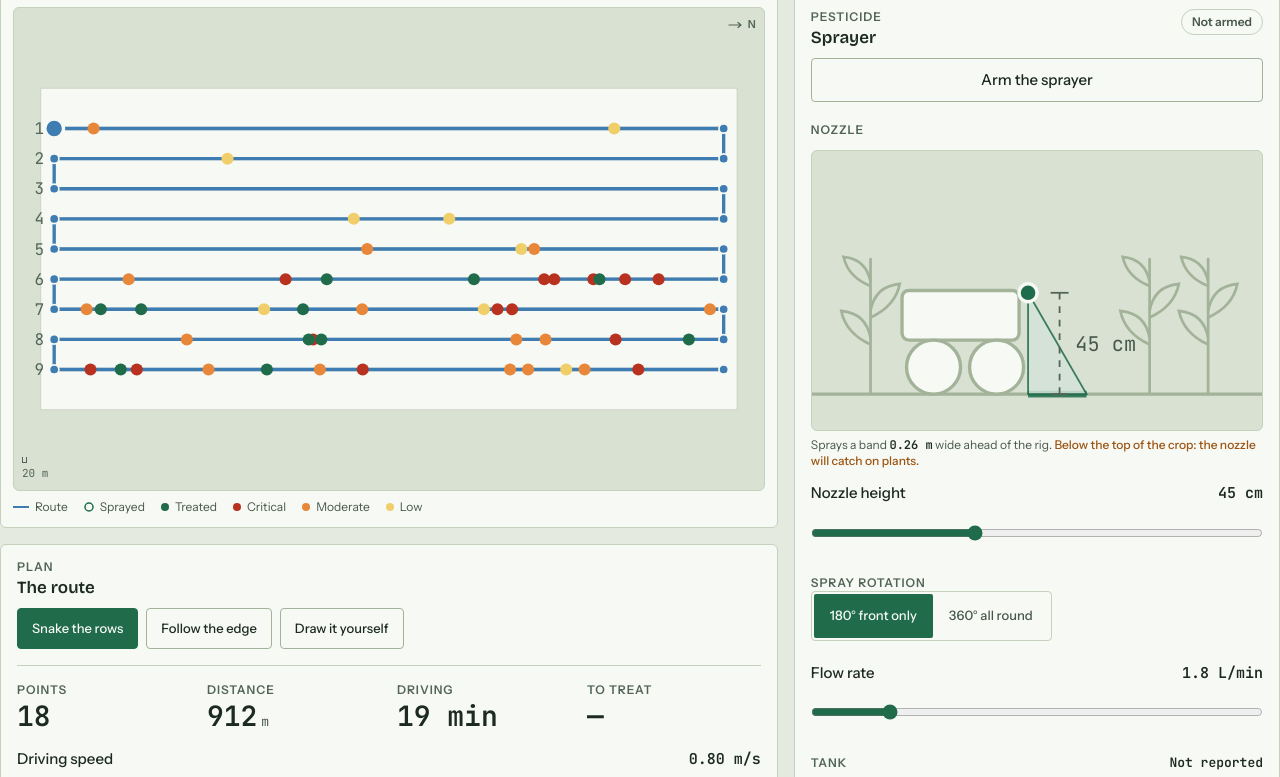
Test: MissionWorkspace › removes a custom point and renumbers the rest
Click the button "Draw it yourself" at (342, 628), box [280, 608, 404, 649]
(page scrolled)
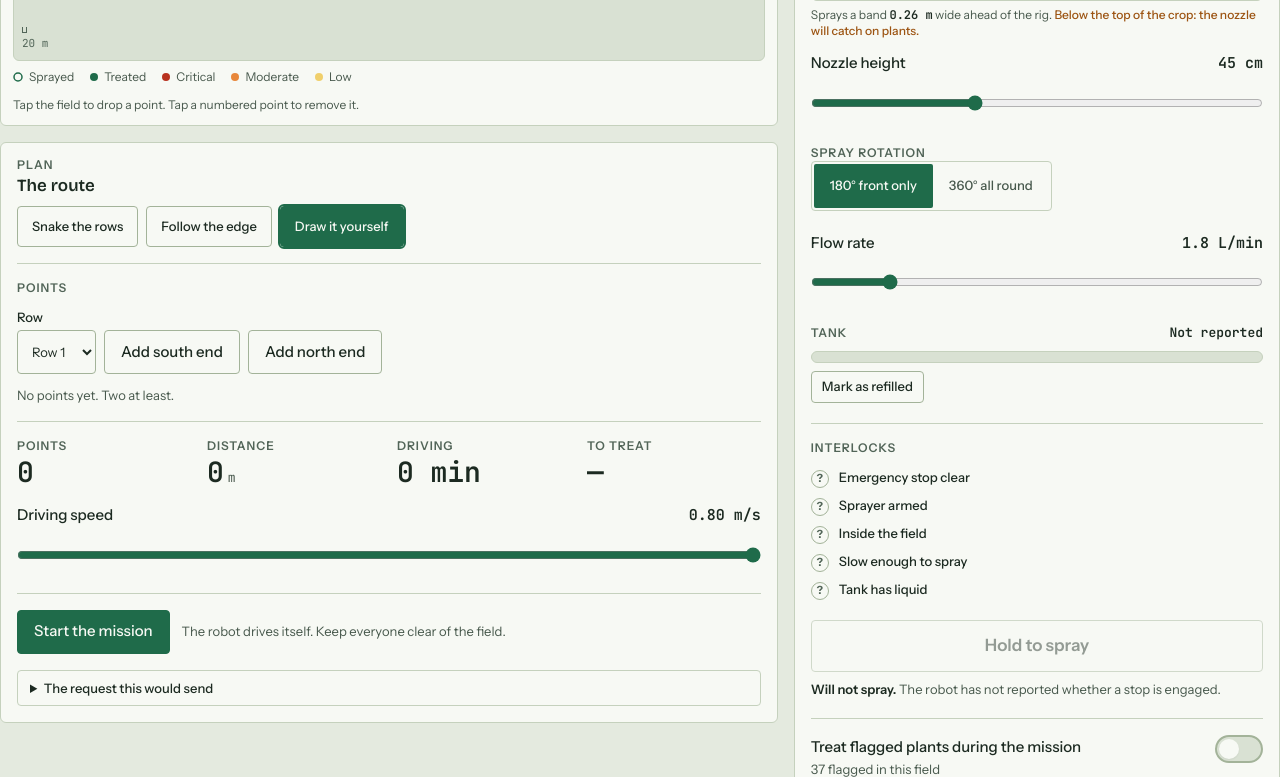
Click the button "Add south end" at (172, 352), box [104, 330, 240, 374]
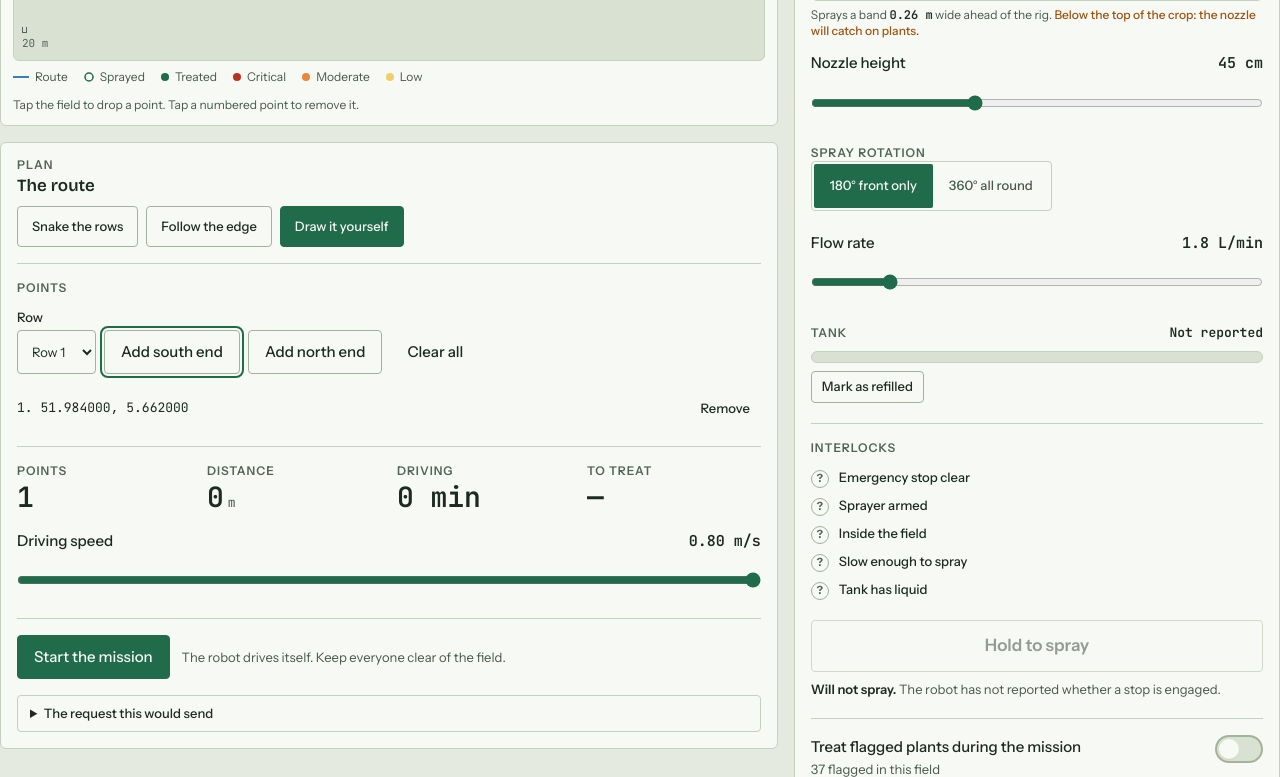
Click the button "Add north end" at (315, 352), box [248, 330, 382, 374]
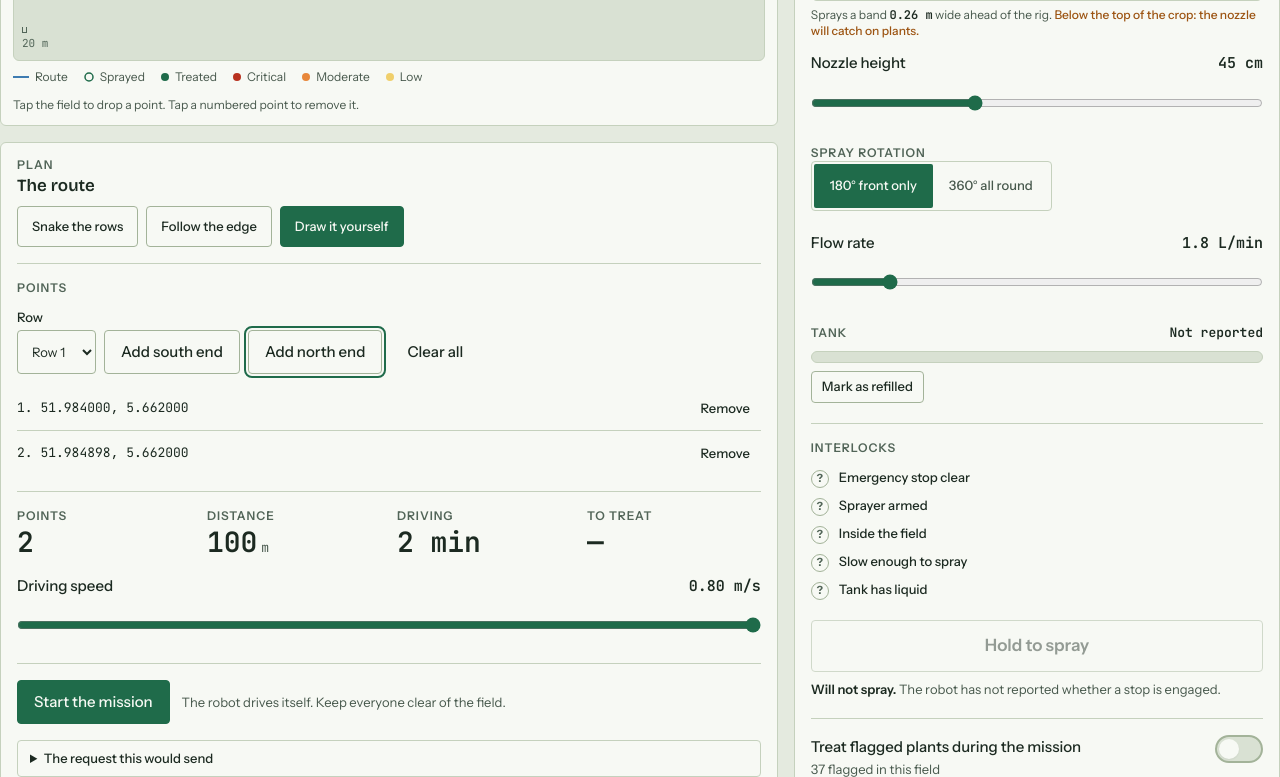
Click the button "Remove" in the row of "51.984000" at (725, 408), box [690, 392, 761, 424]
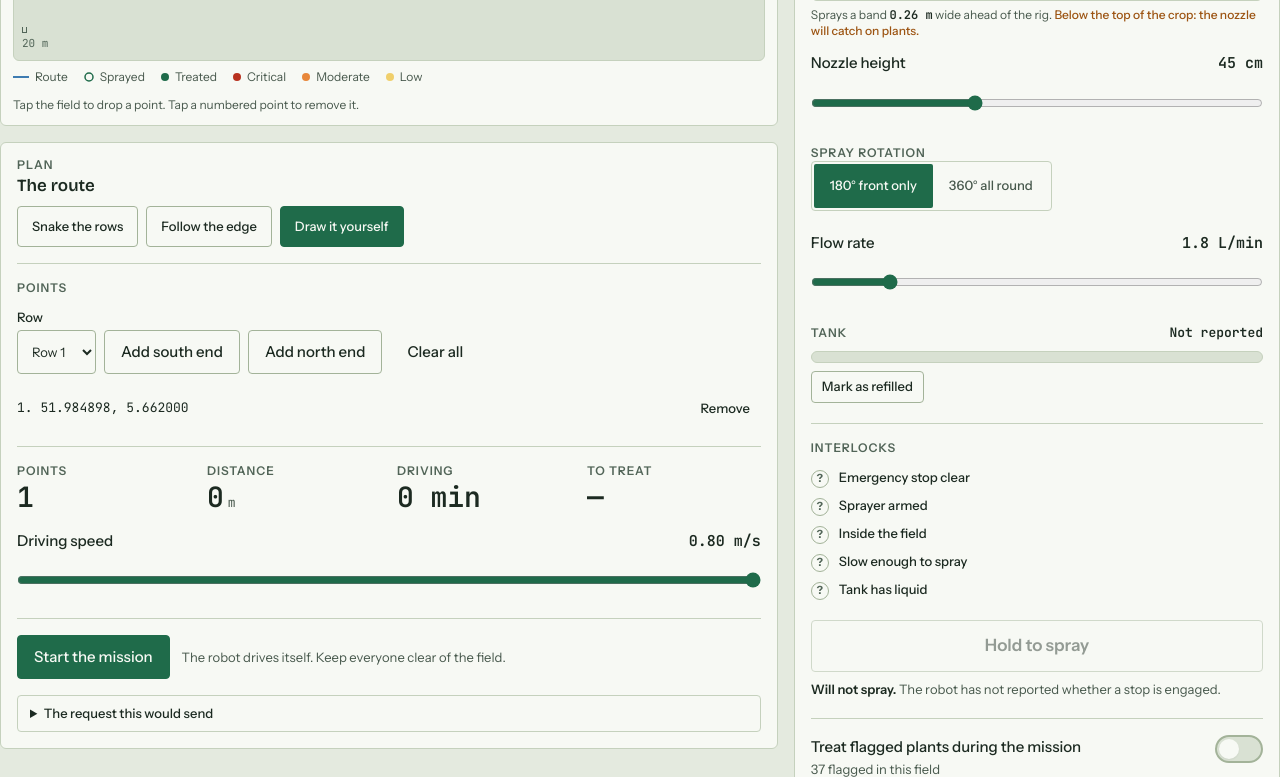
expect the text "1. 51.984898, 5.662000" is shown: met, box [17, 399, 189, 417]
